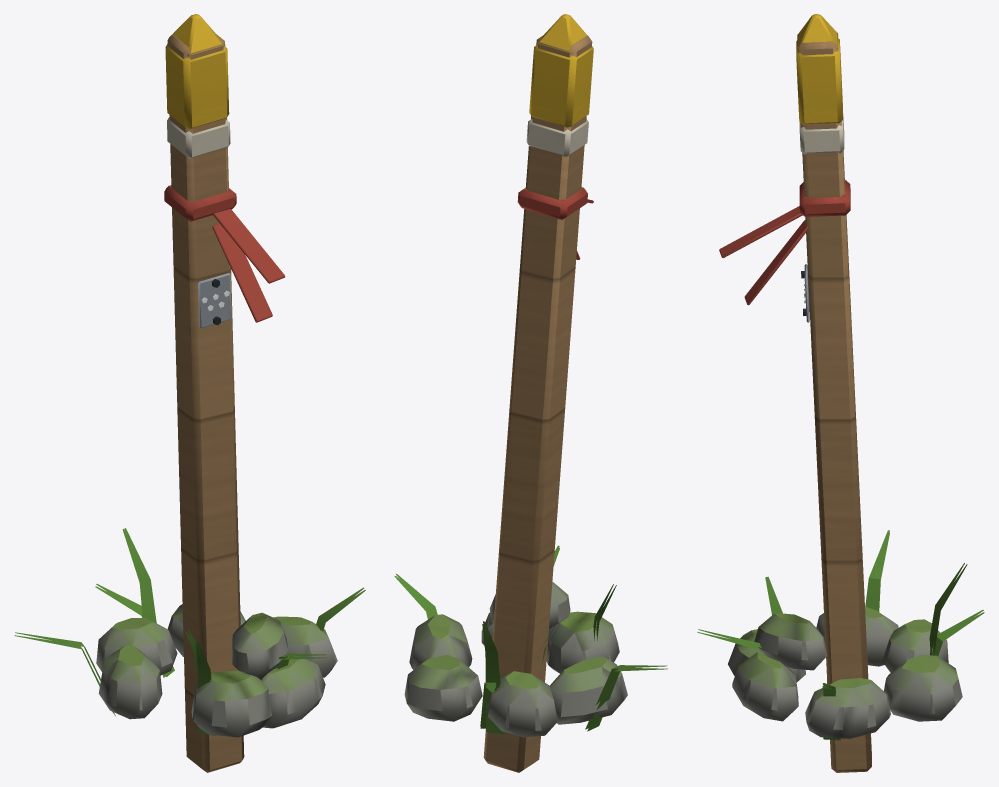
File: field_marker_post.glb
3 renders of one model, left to right at view 1: azimuth 30°, elevation 25°; view 2: azimuth 150°, elevation 25°; view 3: azimuth 270°, elevation 25°, orthographic. The views are drawn at different scales.
Visible parts, largest first — view 1: field_marker_post; view 2: field_marker_post; view 3: field_marker_post.
Part boxes in pixels (<box>): field_marker_post: <box>14,14,365,772</box>; field_marker_post: <box>394,14,667,772</box>; field_marker_post: <box>697,14,984,772</box>.
Size of the model in its own units: 0.6859 by 1.59 by 0.5664.
9 materials, 9 textured.
